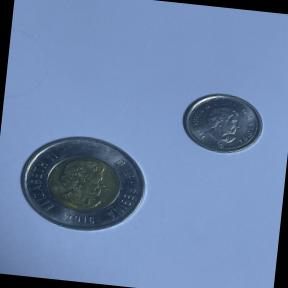Canada-10cent-B: (176, 86, 272, 162)
Canada-2Dollar-B: (11, 126, 156, 241)
